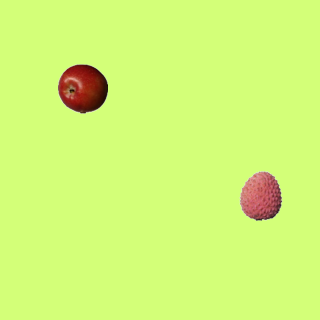Apple Braeburn: (57, 63, 107, 113)
Lychee: (235, 170, 285, 220)
